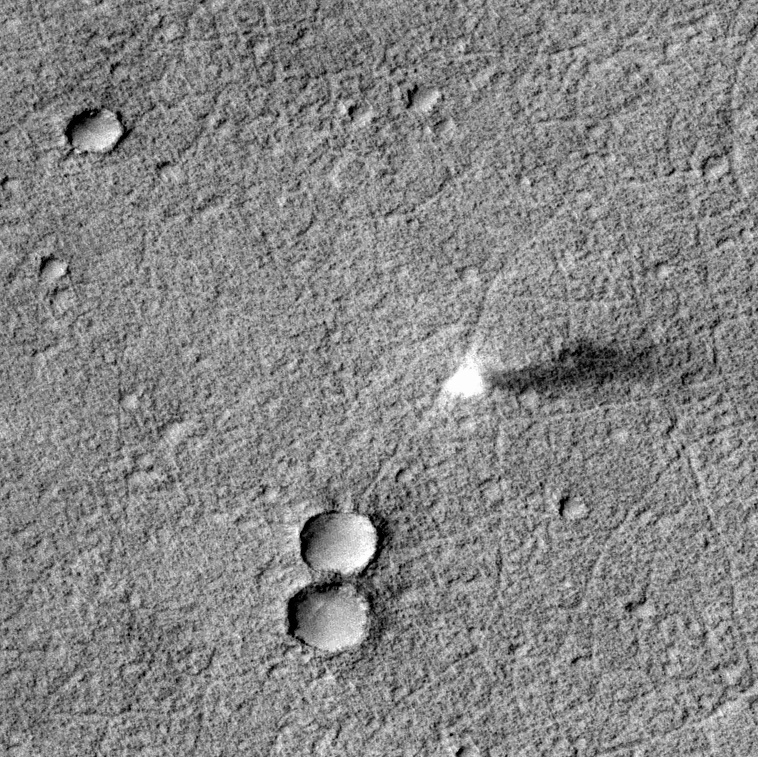dust_devil: (435, 331, 663, 403)
